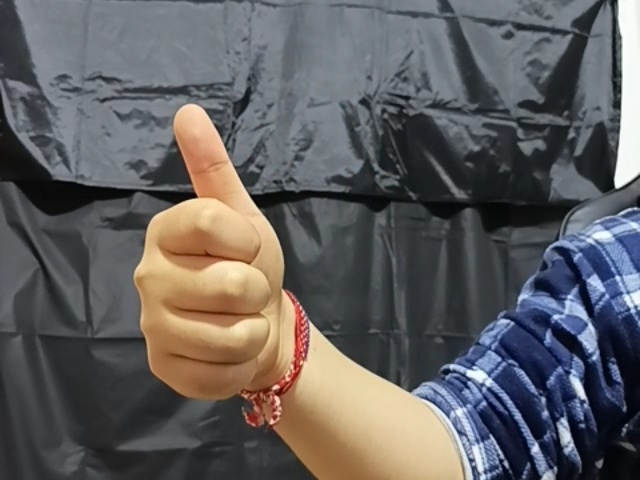A: (128, 97, 289, 406)
